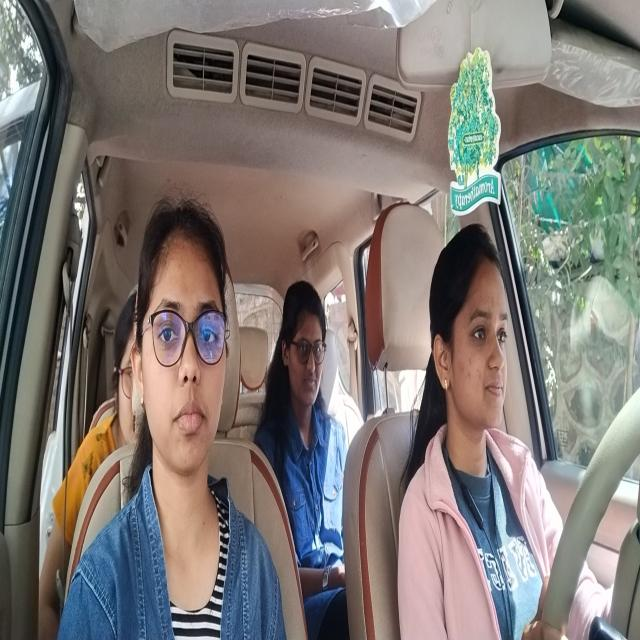person: (134, 189, 232, 470), (427, 209, 510, 438), (281, 279, 331, 418), (116, 282, 142, 452)
